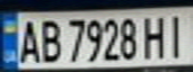2: (103, 16, 121, 62)
7: (63, 16, 84, 63)
8: (118, 15, 142, 61)
9: (84, 16, 106, 63)
A: (15, 16, 42, 64)
B: (36, 16, 63, 63)
H: (139, 11, 172, 60)
I: (163, 10, 193, 60)
